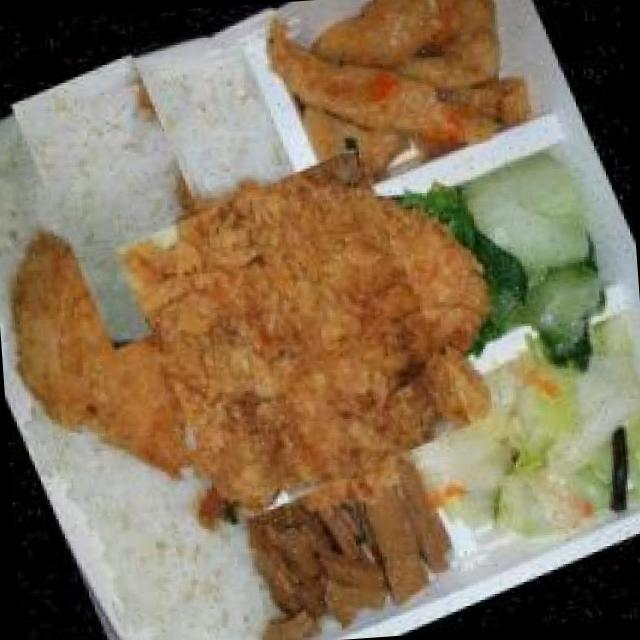fried_chicken: (108, 141, 476, 534)
rice: (0, 29, 267, 325), (92, 469, 272, 640)
